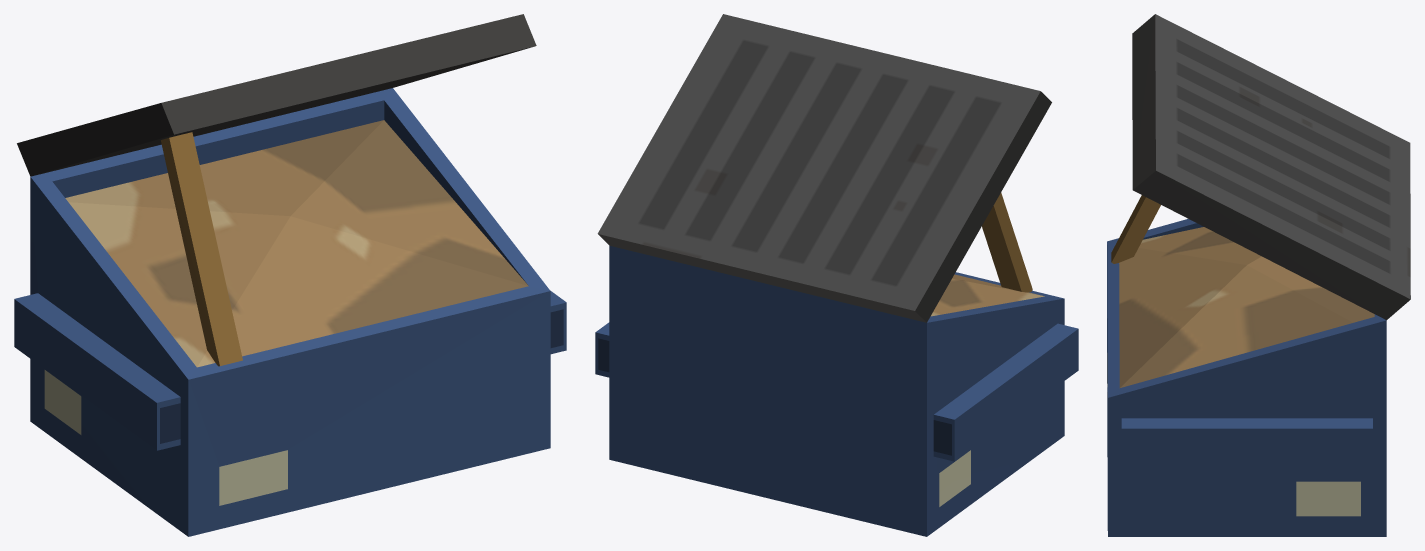
File: SM_Dumpster_Open_03.fbx
3 views of the same model, side by side, from view 1: azimuth 30°, elevation 25°; view 2: azimuth 150°, elevation 25°; view 3: azimuth 270°, elevation 25° (orthographic). The views are drawn at different scales.
Parts seen in each view (by area): view 1: SM_Dumpster_Open_03; view 2: SM_Dumpster_Open_03; view 3: SM_Dumpster_Open_03.
Boxes of the visible parts, <box> form: SM_Dumpster_Open_03: <box>14,14,566,536</box>; SM_Dumpster_Open_03: <box>595,14,1078,536</box>; SM_Dumpster_Open_03: <box>1107,14,1410,536</box>.
Bounding box in the file's own units: 3.29 × 3.17 × 2.38.
